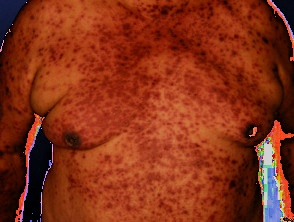SJS-TEN: (0, 7, 277, 222)
